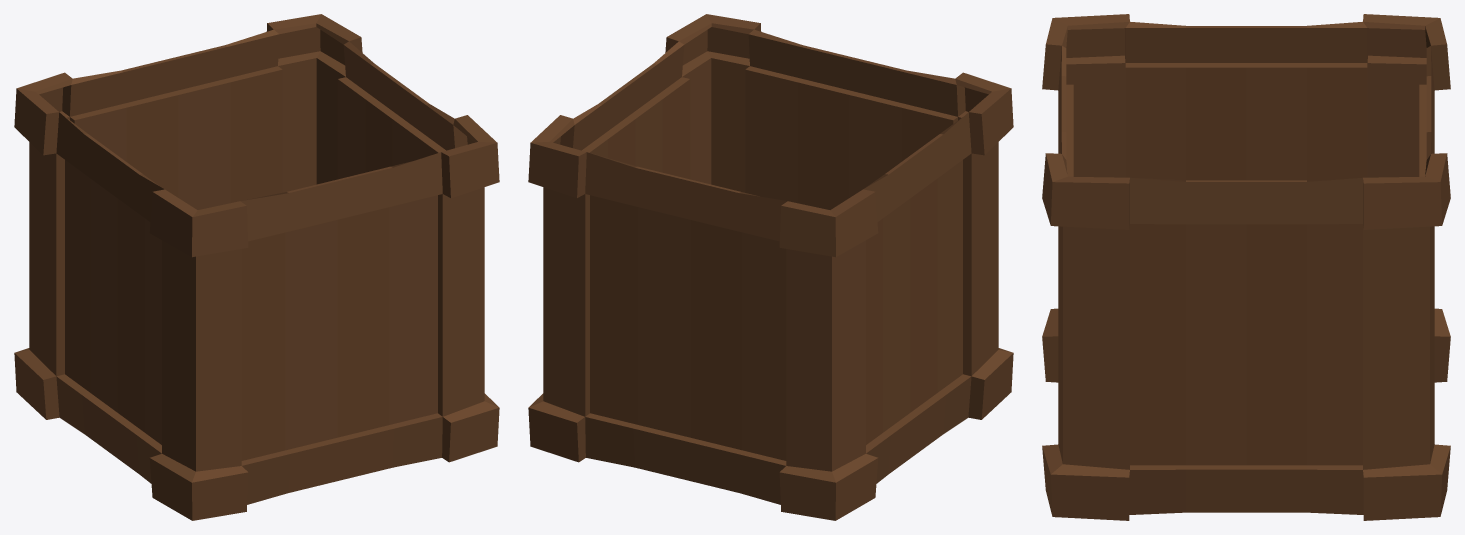
File: Wooden_crate_open.glb
3 views of the same model, side by side, from view 1: azimuth 30°, elevation 25°; view 2: azimuth 150°, elevation 25°; view 3: azimuth 270°, elevation 25° (orthographic). The views are drawn at different scales.
Visible parts, largest first — view 1: Wooden crate_open; view 2: Wooden crate_open; view 3: Wooden crate_open.
Part boxes in pixels (x1,y1,x2,y2): Wooden crate_open: [14, 14, 499, 520]; Wooden crate_open: [528, 14, 1013, 520]; Wooden crate_open: [1042, 14, 1450, 520].
Size of the model in its own units: 0.0879 by 0.0815 by 0.088.
1 material, 1 textured.
